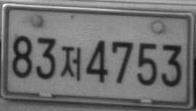3: (161, 43, 182, 87), (35, 37, 56, 79)
4: (85, 40, 109, 83)
5: (136, 42, 158, 85)
7: (111, 40, 134, 84)
8: (11, 34, 33, 78)
저: (59, 45, 81, 82)
